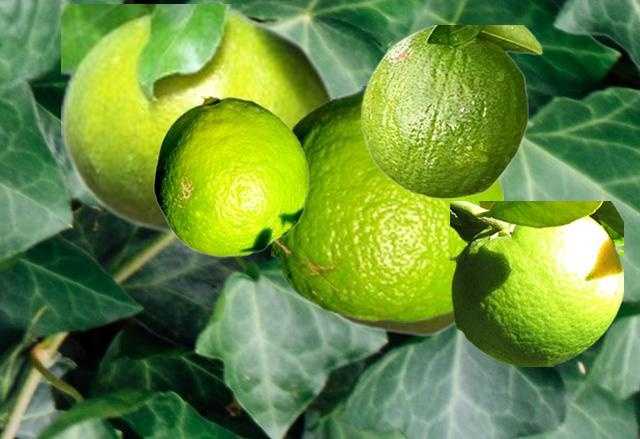dalandan: (61, 4, 337, 240), (271, 86, 502, 321), (360, 25, 542, 198), (450, 201, 622, 365), (153, 96, 308, 256), (332, 313, 454, 336)
